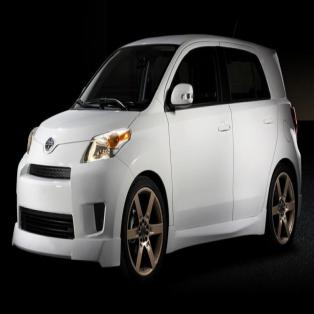Auto: (11, 31, 304, 282)
